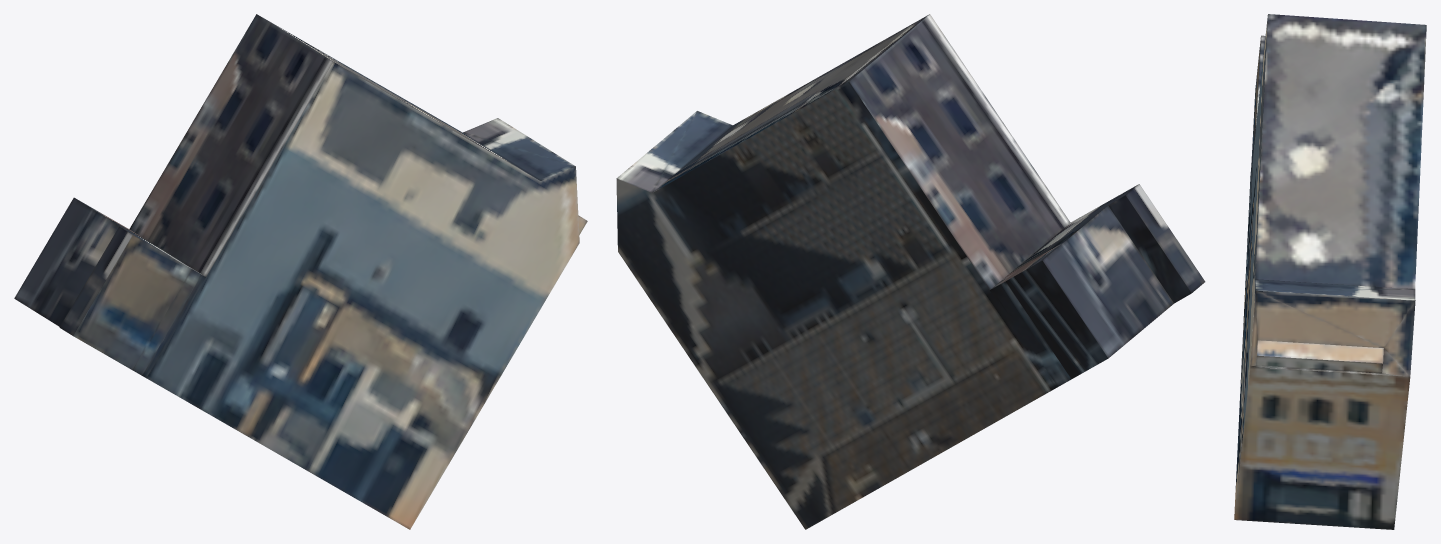
3 renders of one model, left to right at view 1: azimuth 30°, elevation 25°; view 2: azimuth 150°, elevation 25°; view 3: azimuth 270°, elevation 25°, orthographic.
Visible parts, largest first — view 1: BAG_0599100000671684 (×5); view 2: BAG_0599100000671684 (×5); view 3: BAG_0599100000671684 (×5).
Part boxes in pixels (x1,y1,x2,y2): BAG_0599100000671684 (×5): [14, 14, 587, 529]; BAG_0599100000671684 (×5): [616, 14, 1205, 529]; BAG_0599100000671684 (×5): [1234, 14, 1426, 529].
Size of the model in its own units: 24.19 by 21.49 by 7.72.
Materials: 6 (5 with a texture image).
